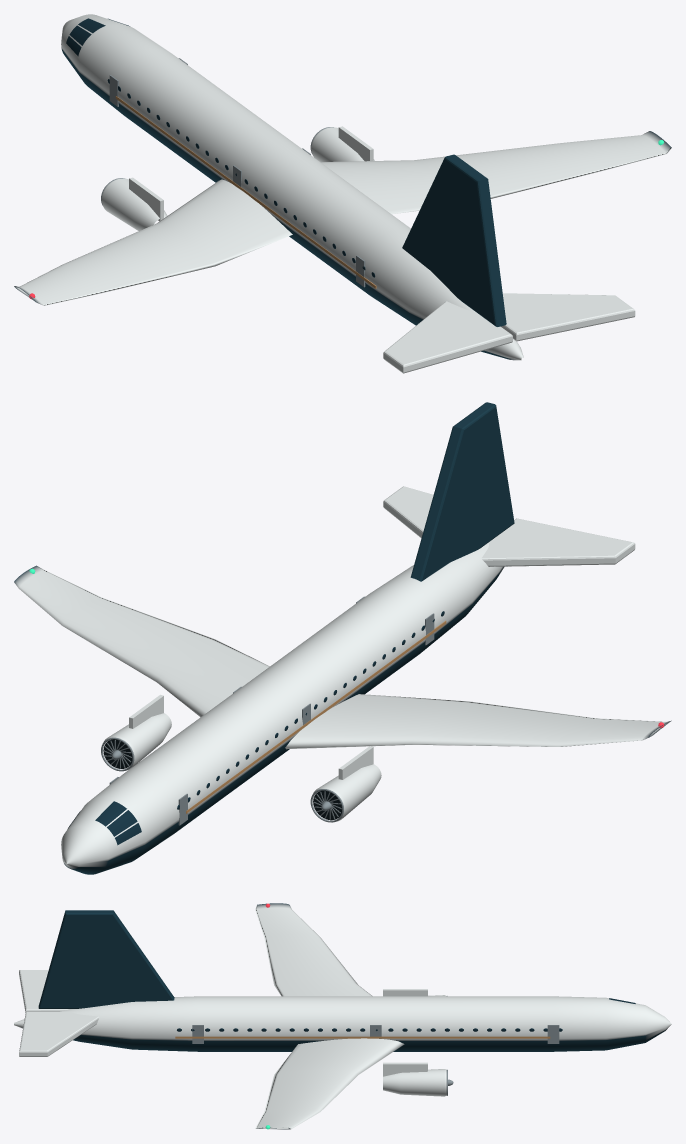
3 views of the same model, one above another, from view 1: azimuth 30°, elevation 25°; view 2: azimuth 150°, elevation 25°; view 3: azimuth 270°, elevation 25° (orthographic). The views are drawn at different scales.
Bounding box in the file's own units: 35.8 × 10.84 × 44.51.
